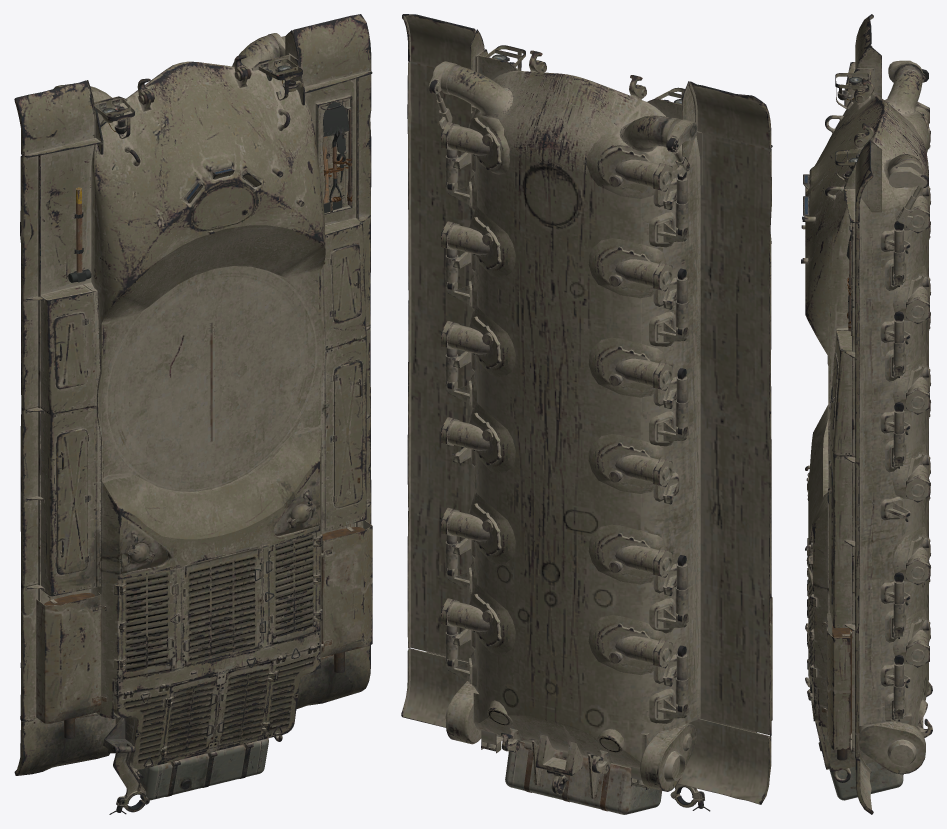
File: Hull.glb
3 views of the same model, side by side, from view 1: azimuth 30°, elevation 25°; view 2: azimuth 150°, elevation 25°; view 3: azimuth 270°, elevation 25° (orthographic). The views are drawn at different scales.
Parts seen in each view (by area): view 1: set_0_group_0; view 2: set_0_group_0; view 3: set_0_group_0.
Boxes of the visible parts, bbox=[...] form: set_0_group_0: bbox=[14, 14, 372, 814]; set_0_group_0: bbox=[401, 14, 772, 814]; set_0_group_0: bbox=[801, 14, 932, 814].
Bounding box in the file's own units: 3.63 × 7.17 × 1.25.
1 material, 1 textured.
